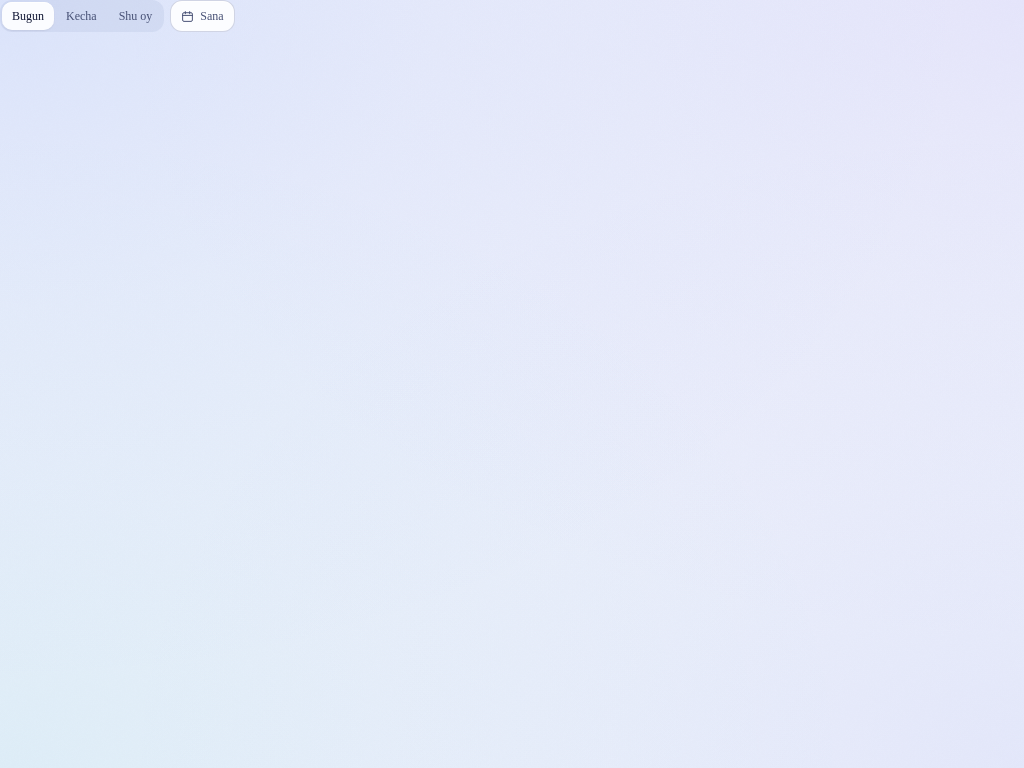
it: the period picker › keeps «Qoʻllash» disabled until the field reads as a month, rather than pressable and silent
Click the button "Sana" at (203, 16), box [170,0,235,32]
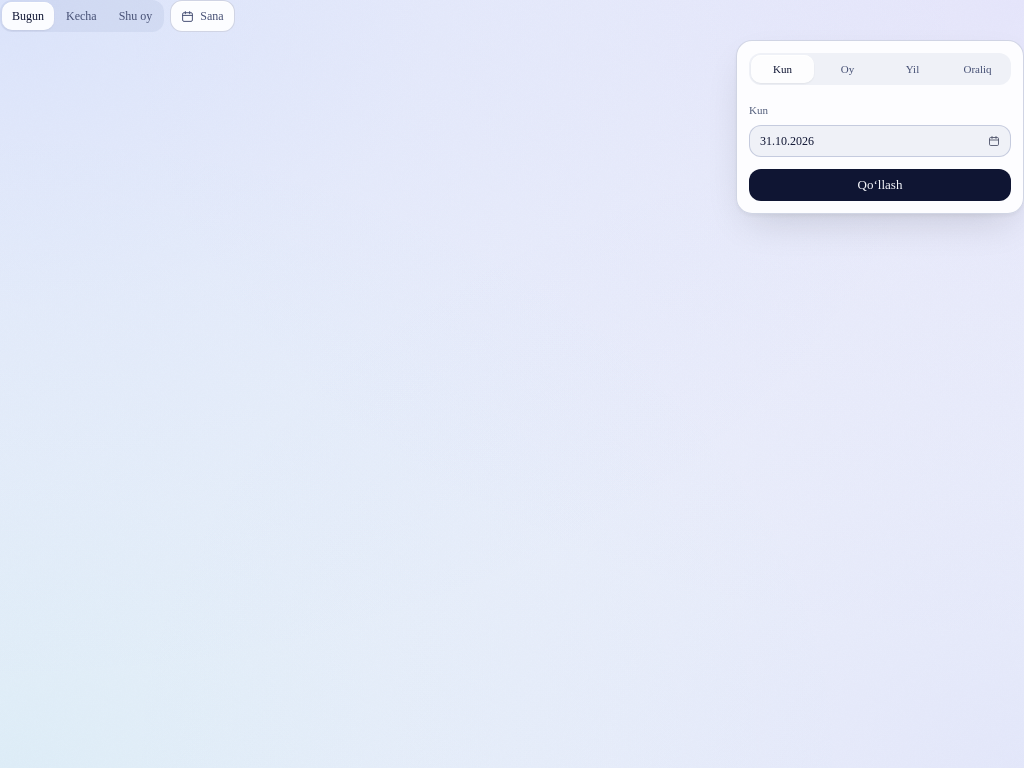
Click the tab "Oy" at (848, 69), box [816,55,879,83]
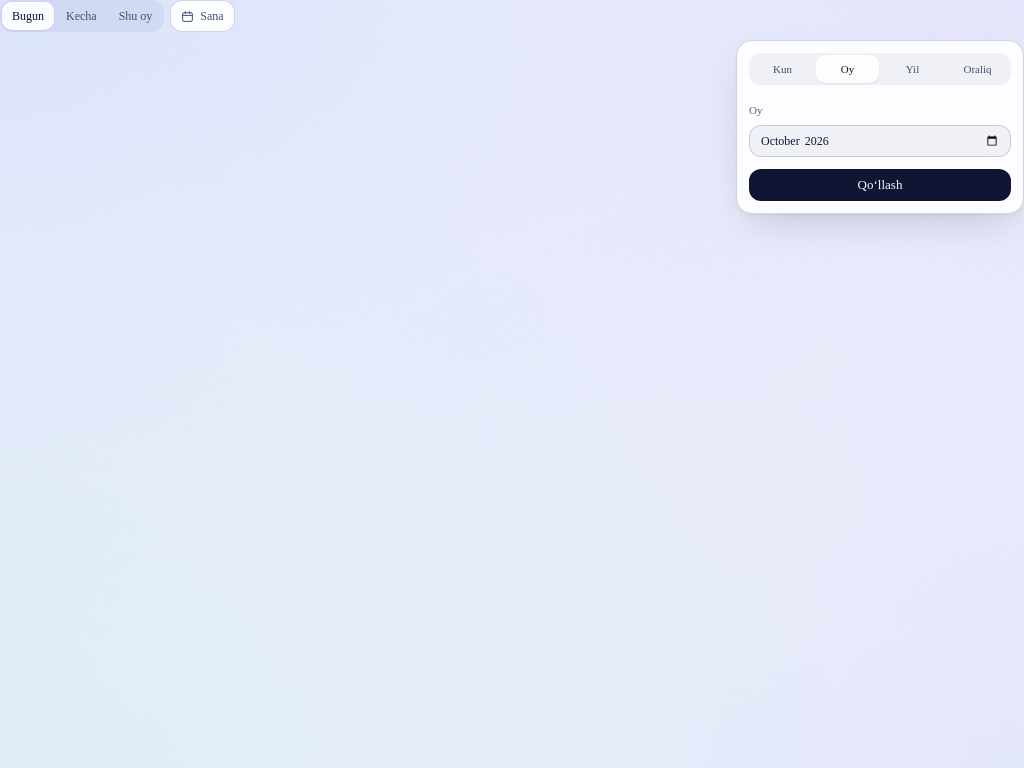
Clear the field labelled "Oy" at (880, 141), box [749,125,1011,157]
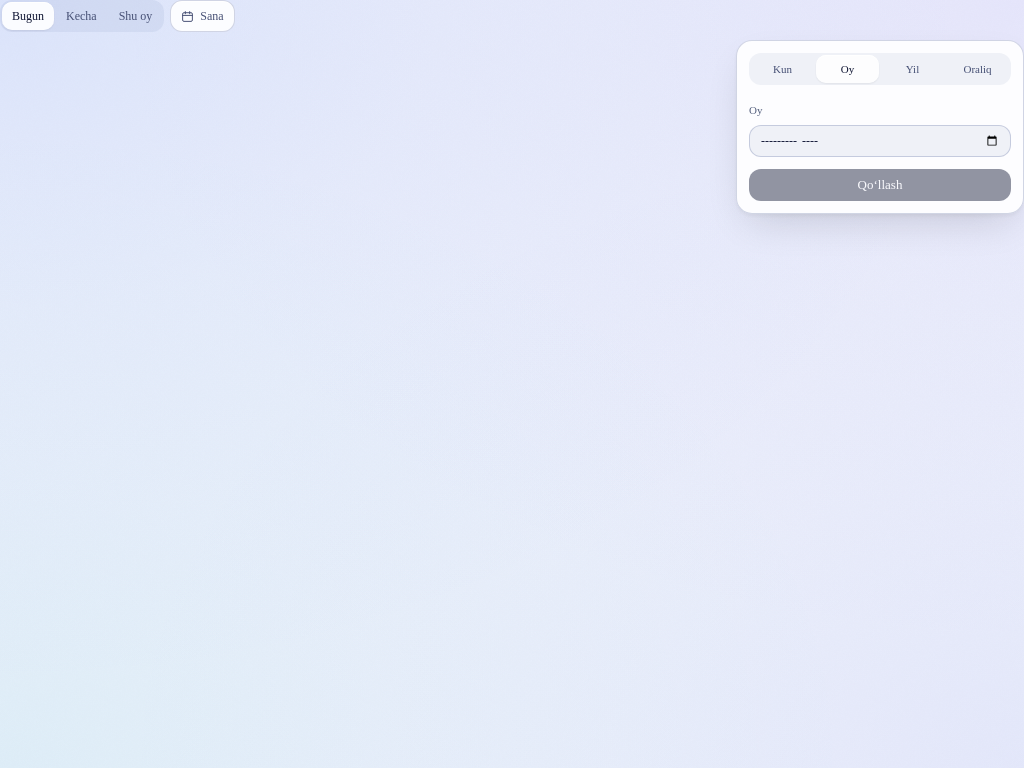
Result: the button "Qoʻllash" is disabled at [749,169,1011,201]
Type "2026-08" into the field labelled "Oy" at (880, 141), box [749,125,1011,157]
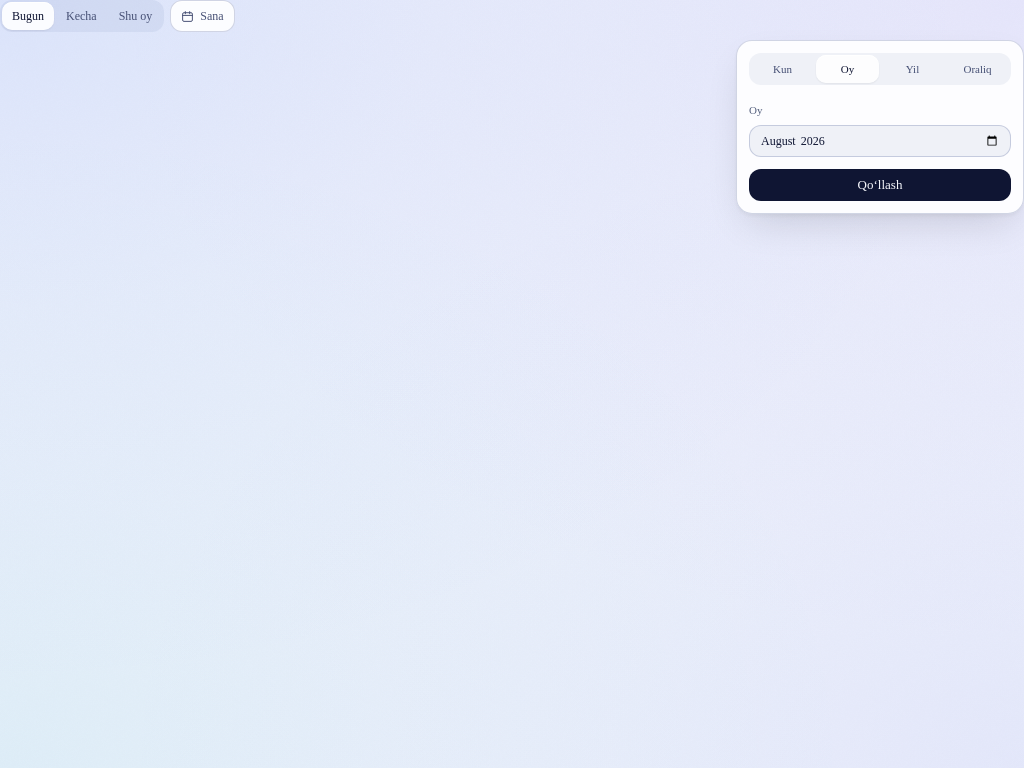
Result: the button "Qoʻllash" is enabled at [749,169,1011,201]
